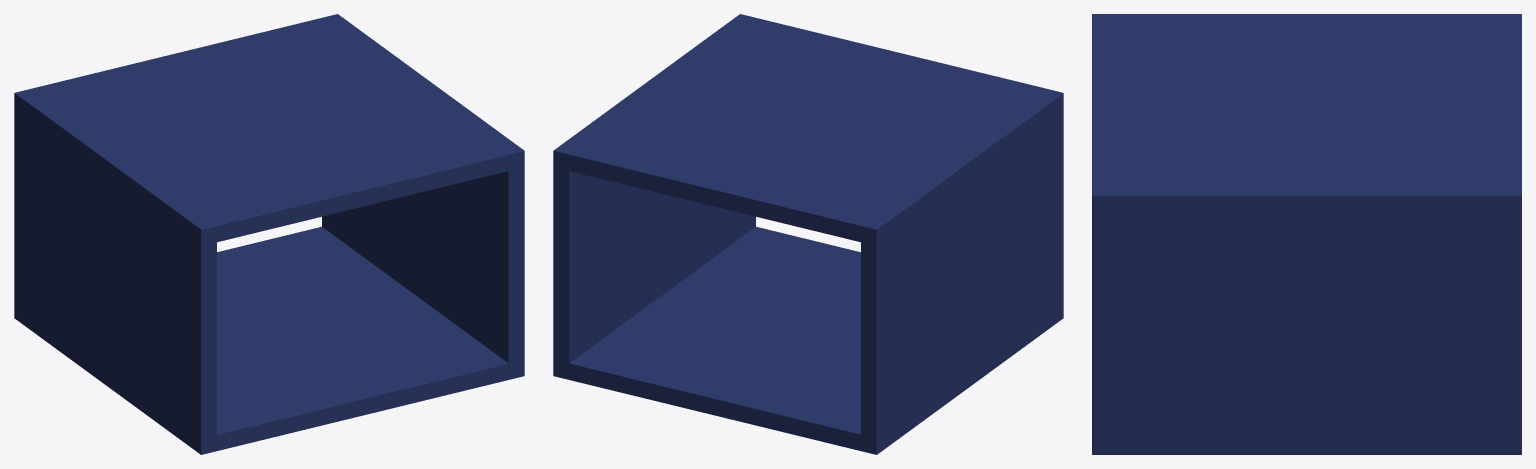
The model's file is MOD_1X07_A_O_AF.glb.
The picture shows the model from 3 angles, left to right: view 1: azimuth 30°, elevation 25°; view 2: azimuth 150°, elevation 25°; view 3: azimuth 270°, elevation 25°; orthographic projection. The views are drawn at different scales.
Bounding box in the file's own units: 360 × 240 × 360.
